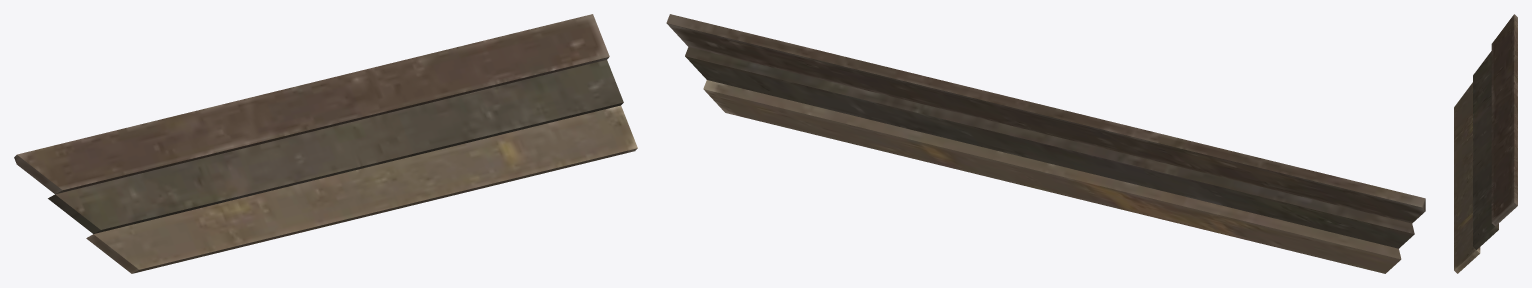
The model's file is roof.frontier.corner.90.concave.l.top.line.glb.
The picture shows the model from 3 angles, left to right: view 1: azimuth 30°, elevation 25°; view 2: azimuth 150°, elevation 25°; view 3: azimuth 270°, elevation 25°; orthographic projection. The views are drawn at different scales.
Visible parts, largest first — view 1: model; view 2: model; view 3: model.
Boxes of the visible parts, x1,y1,x2,y2 form: model: (14, 14, 637, 273); model: (666, 14, 1425, 273); model: (1454, 14, 1517, 273).
Size of the model in its own units: 3 by 0.5288 by 0.4298.
1 material, 1 textured.
